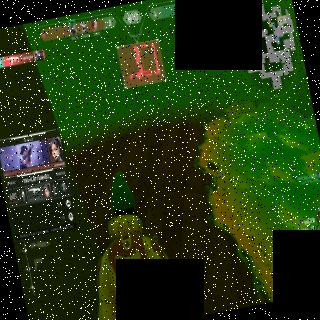ENEMY-HEAD: (119, 30, 128, 45)
